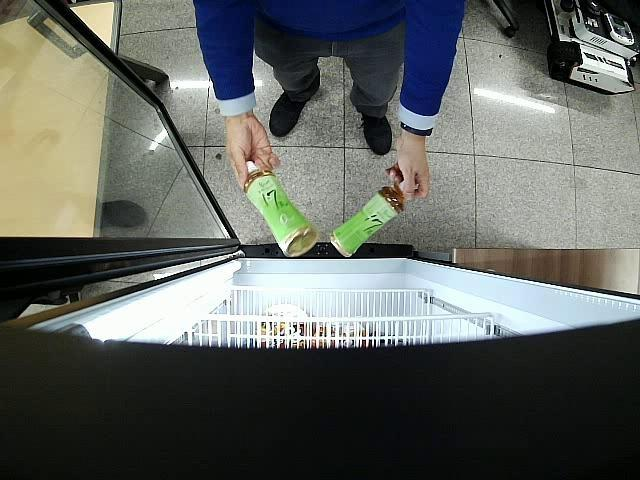19_17cha: (245, 161, 318, 256), (330, 181, 404, 257)
